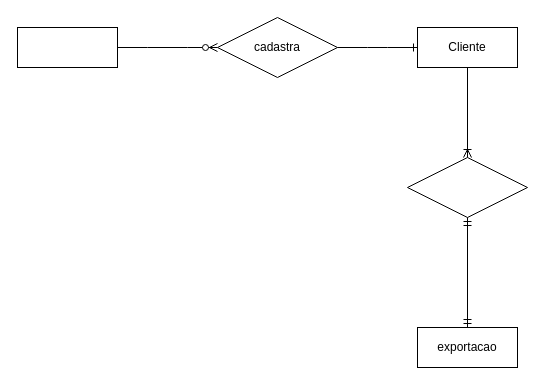
The diagram is 545 pixels wide and 385 high, and some of its shapes have lost their labels. The box of each missing label's shape, as (x1, y1, x2, y2) in pixels:
necessita: (406, 156, 528, 218)
Usuario: (16, 26, 118, 68)
